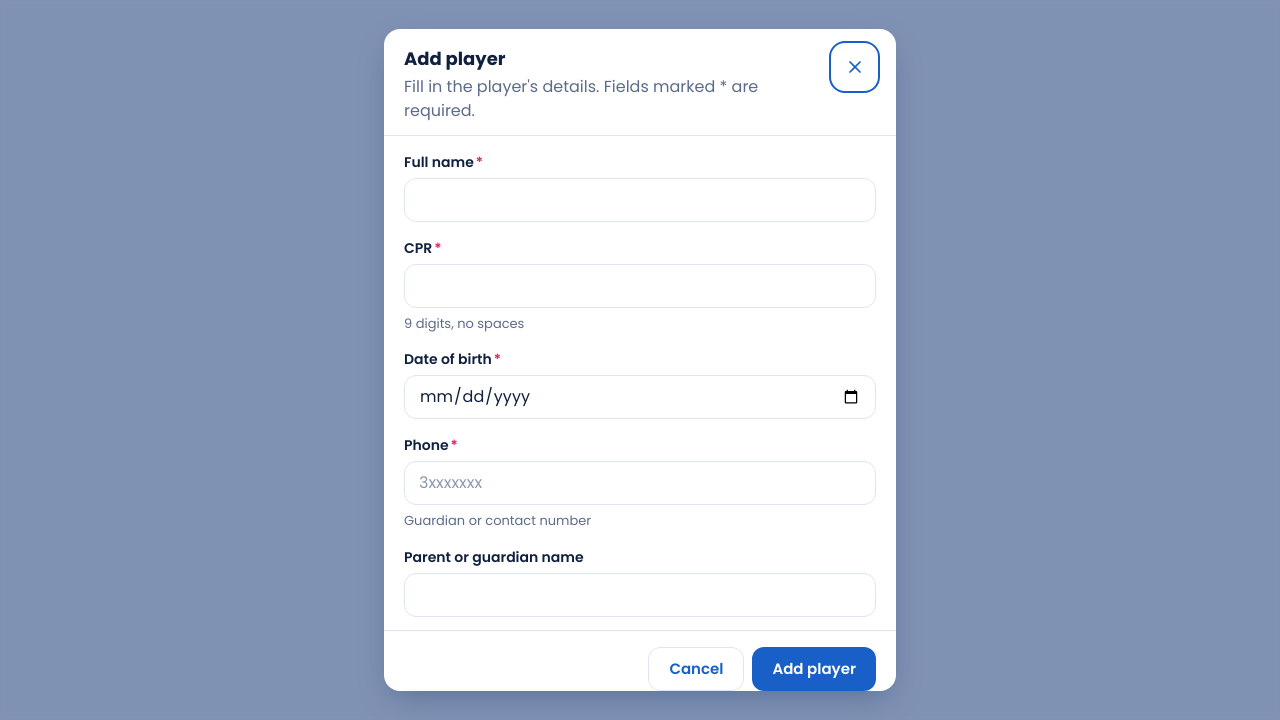
PlayerFormDialog › validation › rejects a date of birth in the future
Type "  Yousef Al Mahmood " into the field labelled "Full name*" at (640, 200), box [404,178,876,222]
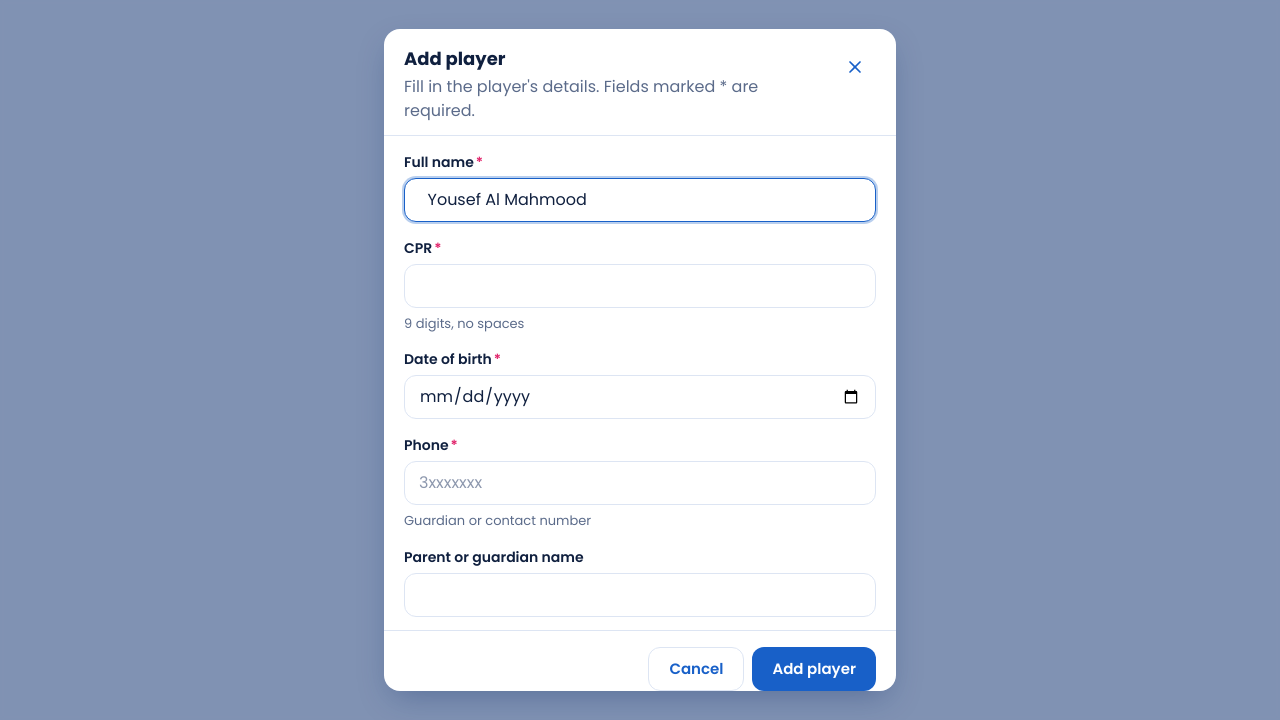
Type "150312345" into the field labelled "CPR*" at (640, 286), box [404,264,876,308]
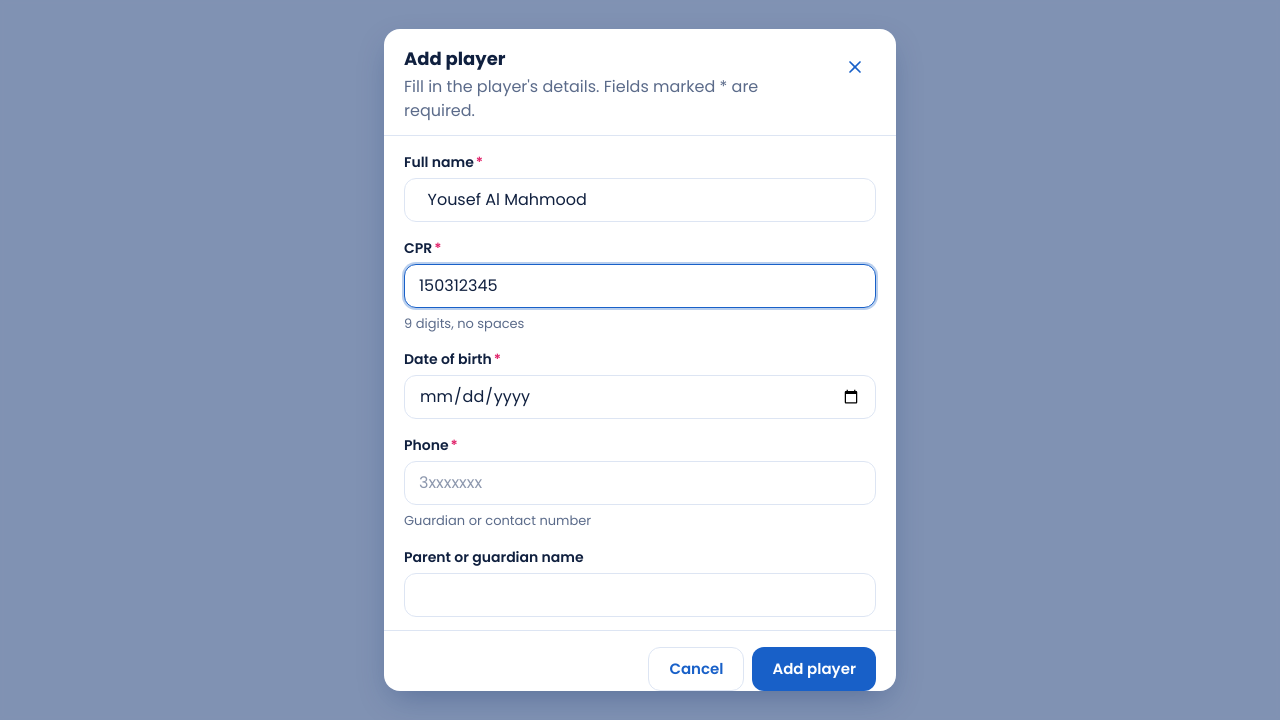
Type "2015-03-12" into the date field labelled "Date of birth*" at (640, 397), box [404,375,876,419]
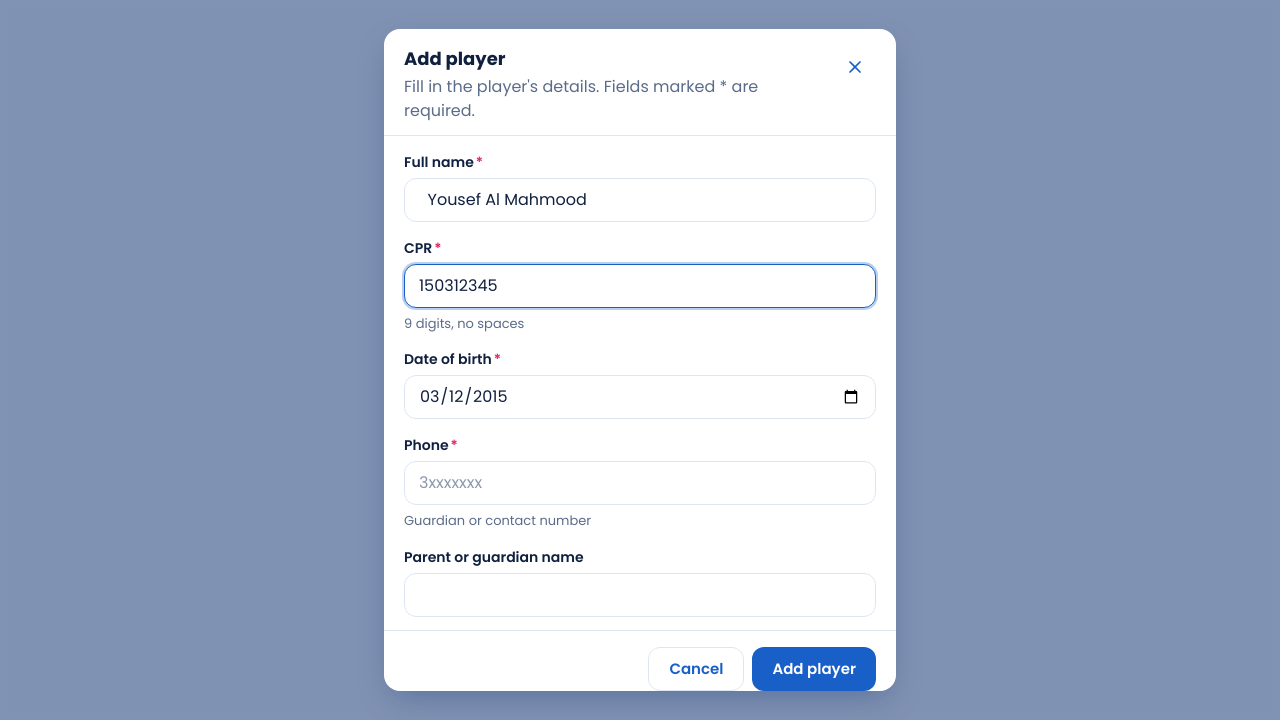
Type "39111001" into the field labelled "Phone*" at (640, 483), box [404,461,876,505]
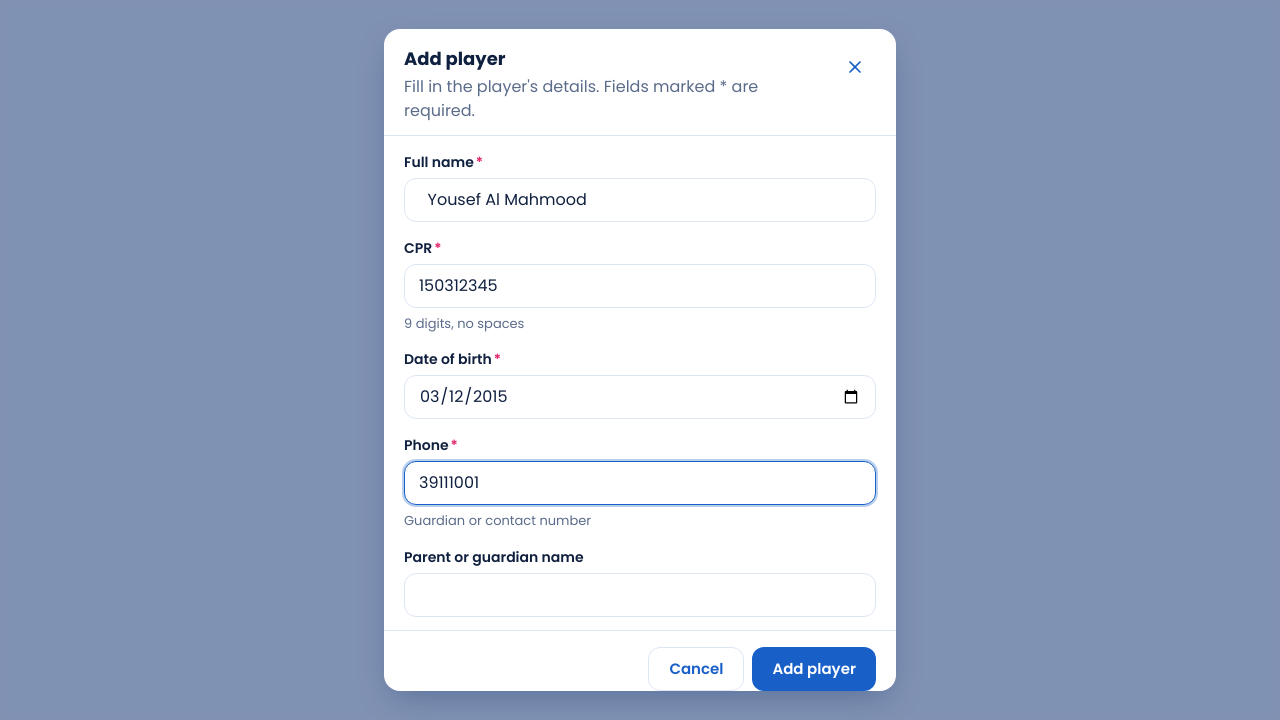
Type "2999-01-01" into the date field labelled "Date of birth*" at (640, 397), box [404,375,876,419]
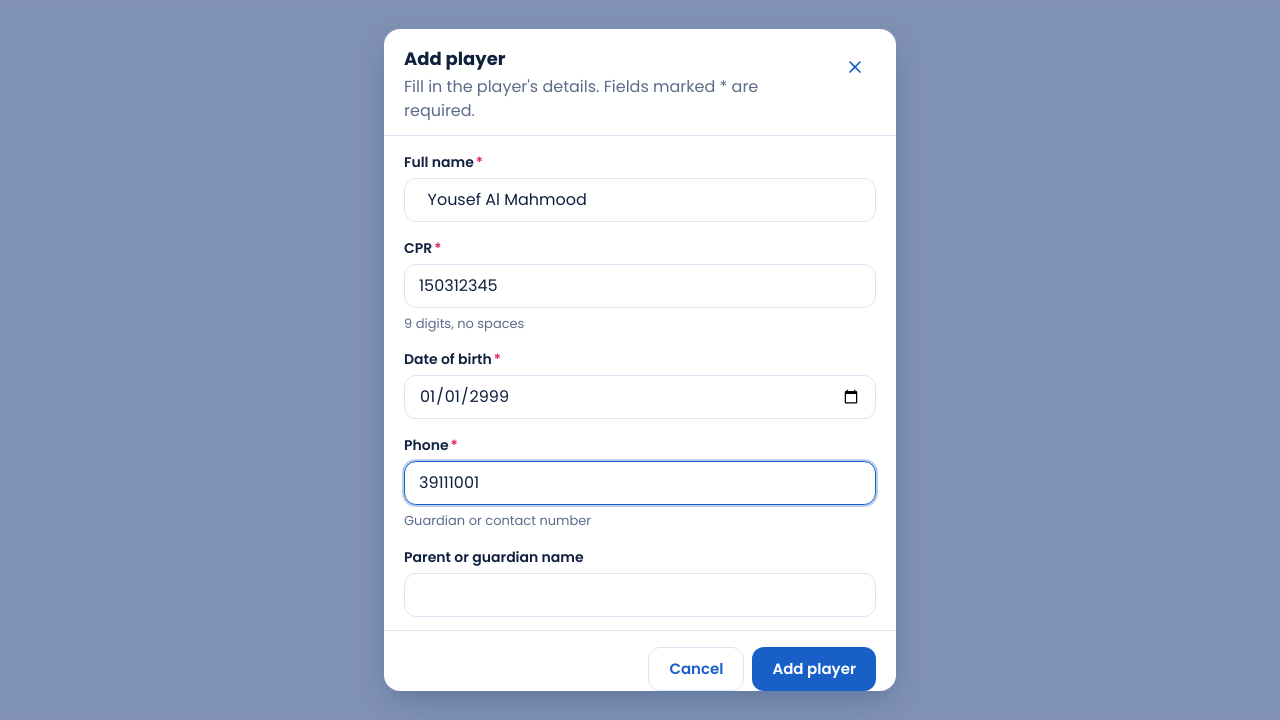
Click the button "Add player" at (814, 669), box [752,647,876,691]
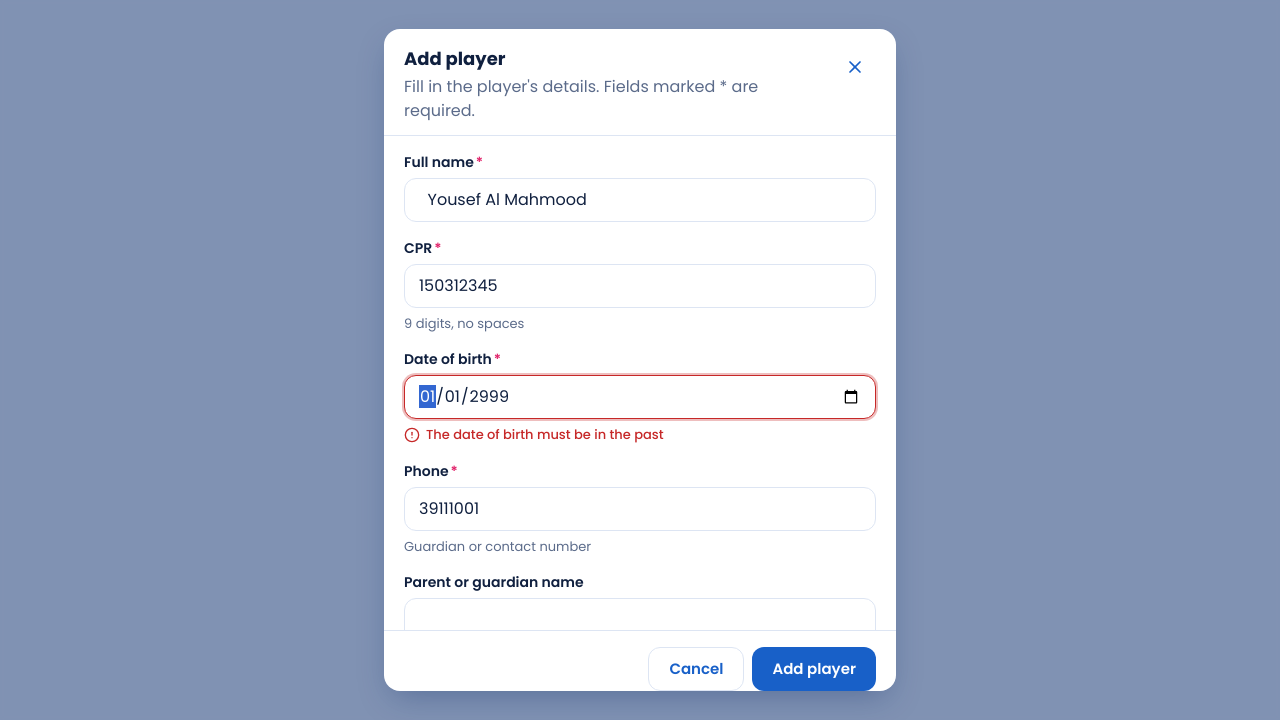
Now the text "The date of birth must be in the past" is shown, box [426,425,664,445]
